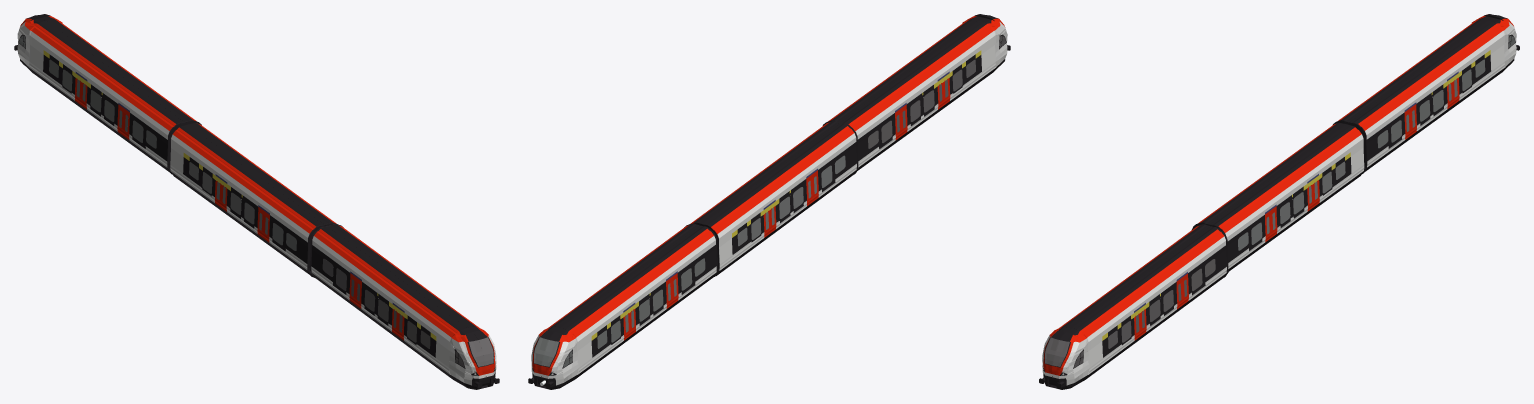
The model's file is train.glb.
3 renders of one model, left to right at view 1: azimuth 30°, elevation 25°; view 2: azimuth 150°, elevation 25°; view 3: azimuth 330°, elevation 25°, orthographic.
Visible parts, largest first — view 1: Object_4, Object_33; view 2: Object_4, Object_33; view 3: Object_4, Object_33.
Boxes of the visible parts, x1,y1,x2,y2 form: Object_4: (14, 14, 499, 389); Object_33: (19, 35, 493, 367); Object_4: (528, 14, 1010, 389); Object_33: (534, 35, 1006, 367); Object_4: (1039, 14, 1519, 389); Object_33: (1045, 35, 1515, 367).
Size of the model in its own units: 1.53 by 2.03 by 31.96.
4 materials, 4 textured.
